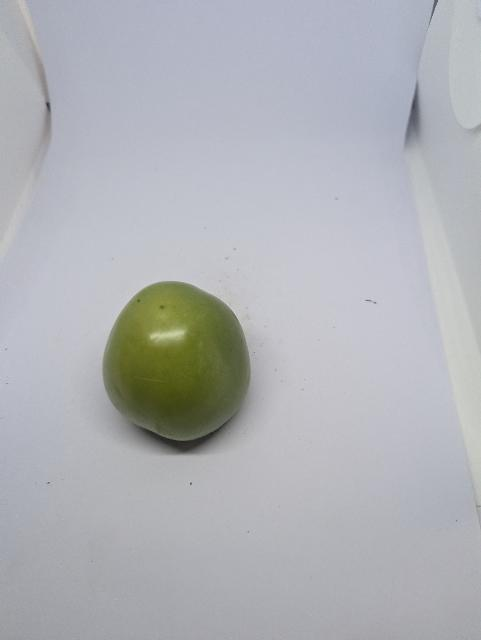green: (101, 279, 254, 443)
